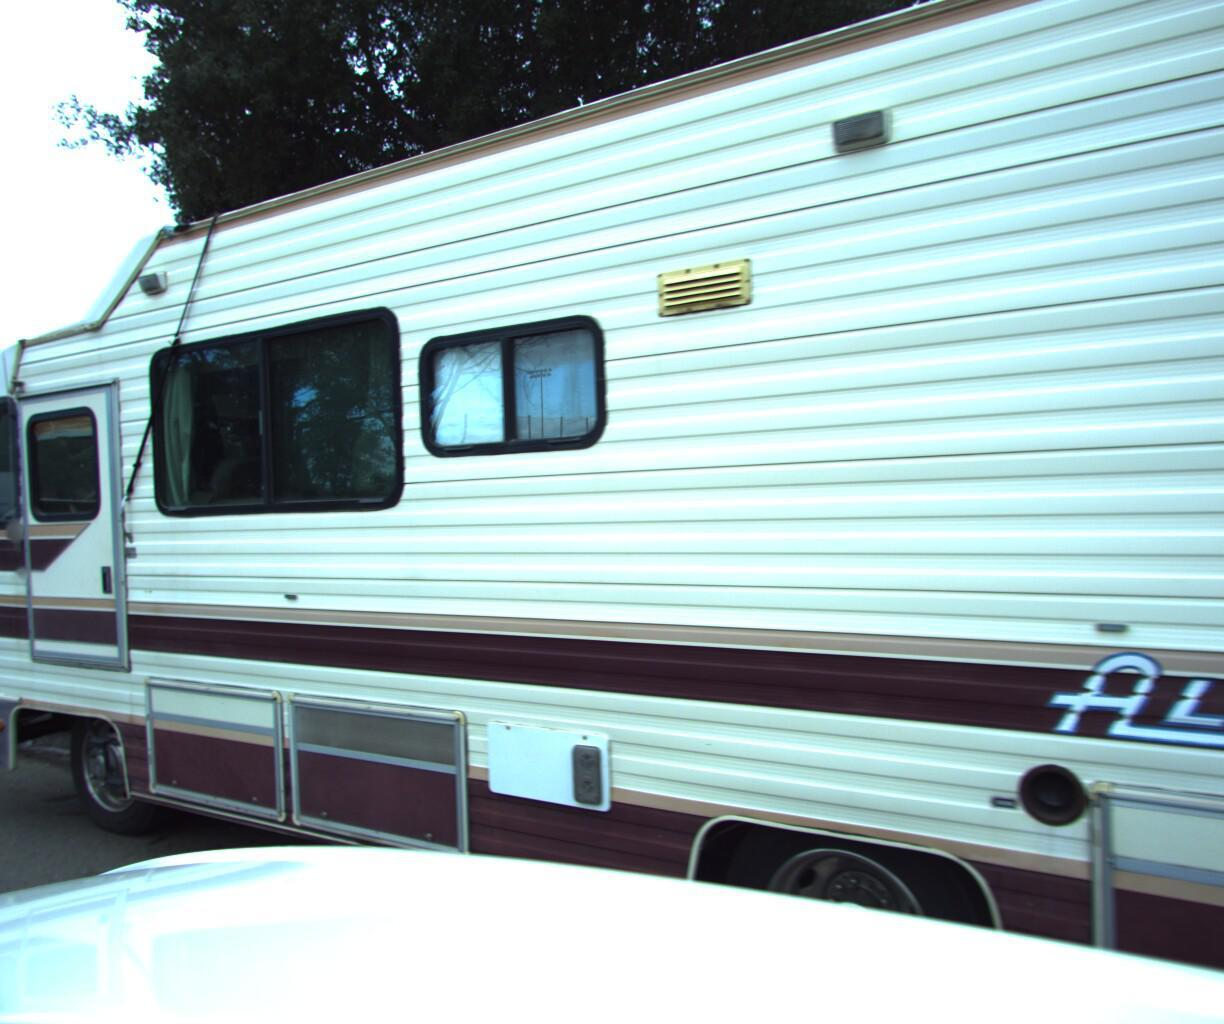car: (0, 513, 62, 785)
other_vehicle: (0, 0, 1224, 1024)
